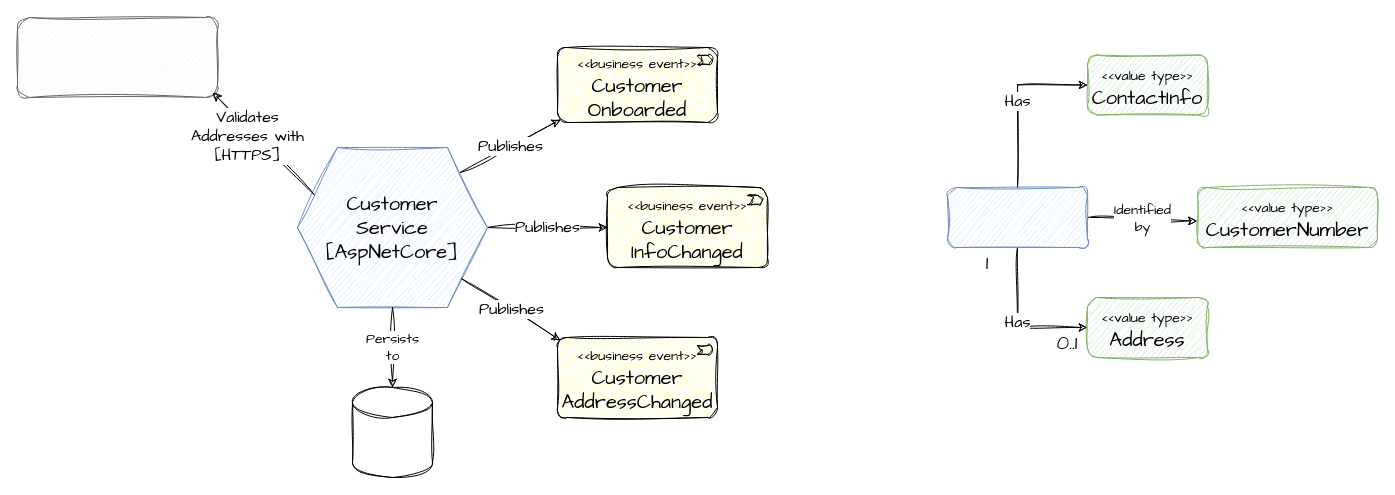
Some shapes in this 1395 by 495 pixel diagram are drawn without their labels. Here are the shapes that lost their labels. From the top down, the centre of each, then its label:
pixel 117 57: USPS [External System]
pixel 1017 217: <<aggregate root>> Customer
pixel 392 432: customer schema
